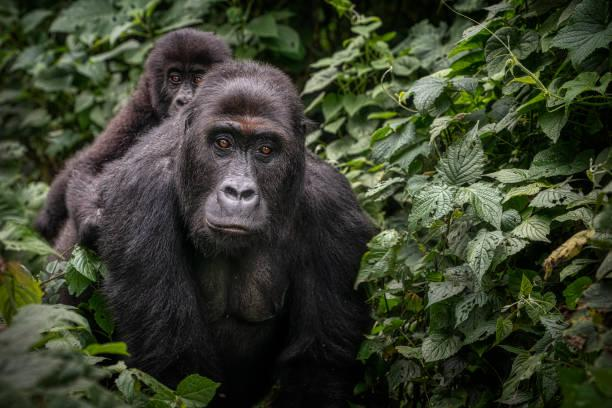goriile_montagne: (94, 44, 392, 386), (62, 21, 237, 146)
